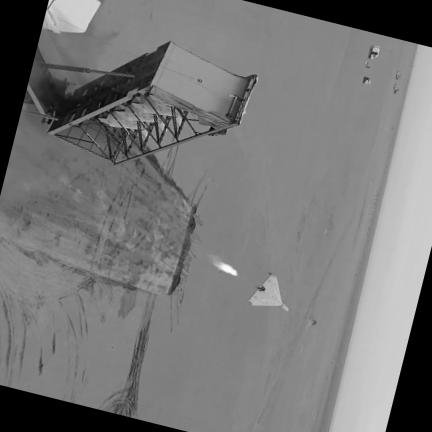Shahed: (248, 273, 287, 311)
